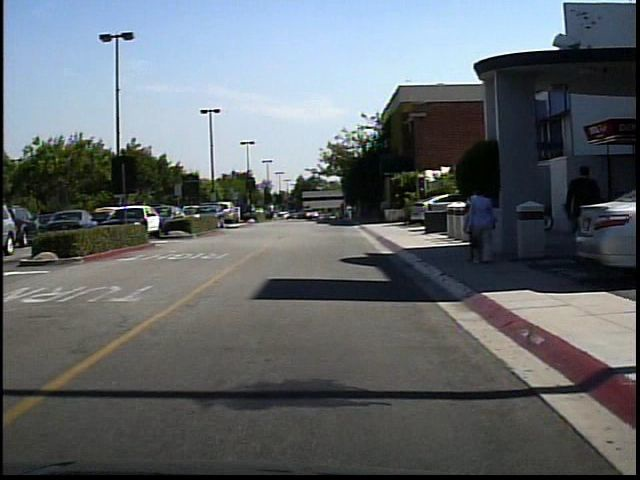person: (561, 158, 611, 280), (468, 183, 499, 267), (468, 189, 491, 265), (344, 203, 357, 227), (271, 200, 281, 224)
